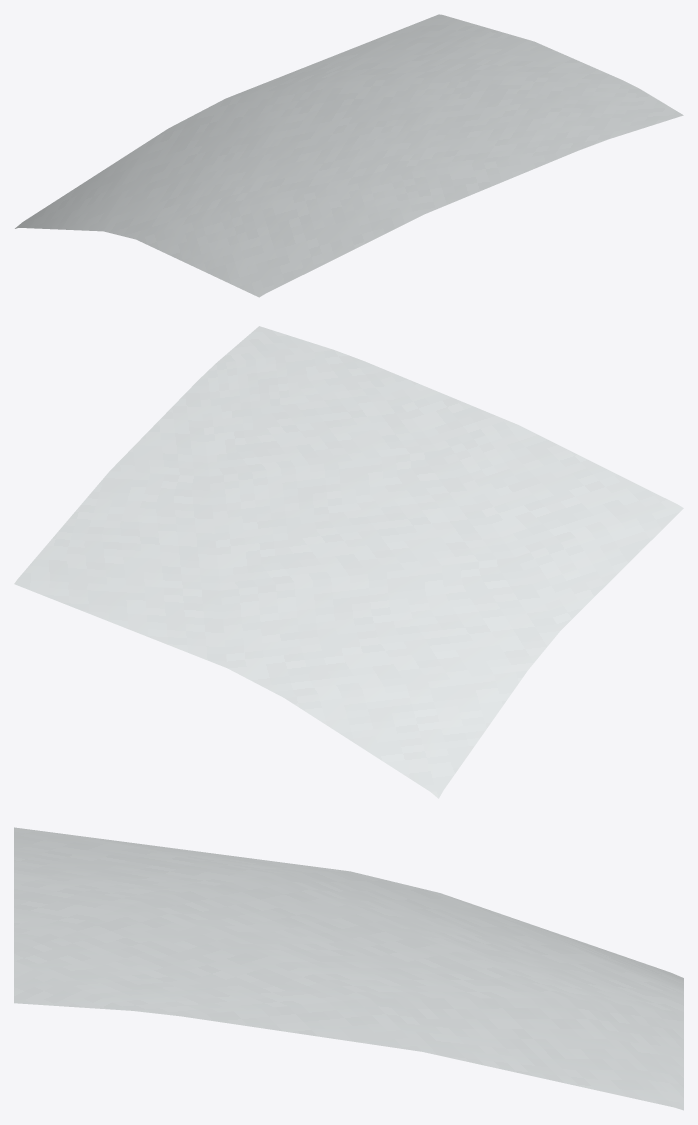
File: spheroid_medium_2_1_1.obj
3 views of the same model, one above another, from view 1: azimuth 30°, elevation 25°; view 2: azimuth 150°, elevation 25°; view 3: azimuth 270°, elevation 25° (orthographic). The views are drawn at different scales.
Parts seen in each view (by area): view 1: spheroid_medium_2_1_1; view 2: spheroid_medium_2_1_1; view 3: spheroid_medium_2_1_1.
Boxes of the visible parts, <box> form: spheroid_medium_2_1_1: <box>15,14,683,297</box>; spheroid_medium_2_1_1: <box>14,326,683,798</box>; spheroid_medium_2_1_1: <box>14,827,683,1110</box>.
Size of the model in its own units: 3 by 1.28 by 3.
